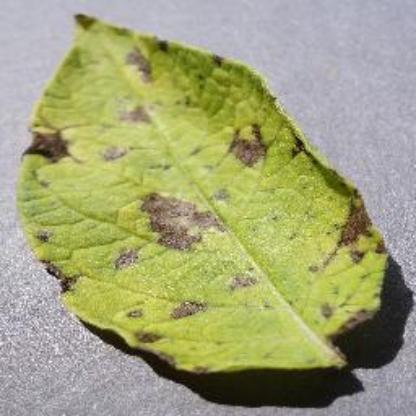Early-Blight: (20, 9, 392, 381)
